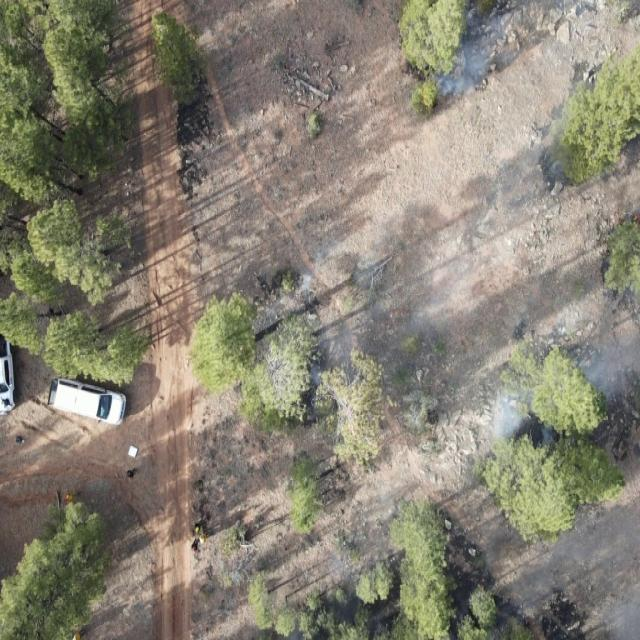fire: (422, 76, 442, 108), (618, 212, 640, 227)
smoke: (246, 253, 465, 437), (494, 339, 640, 453), (436, 0, 559, 96), (320, 498, 408, 617), (538, 100, 584, 188), (580, 286, 640, 340), (604, 595, 640, 640)
